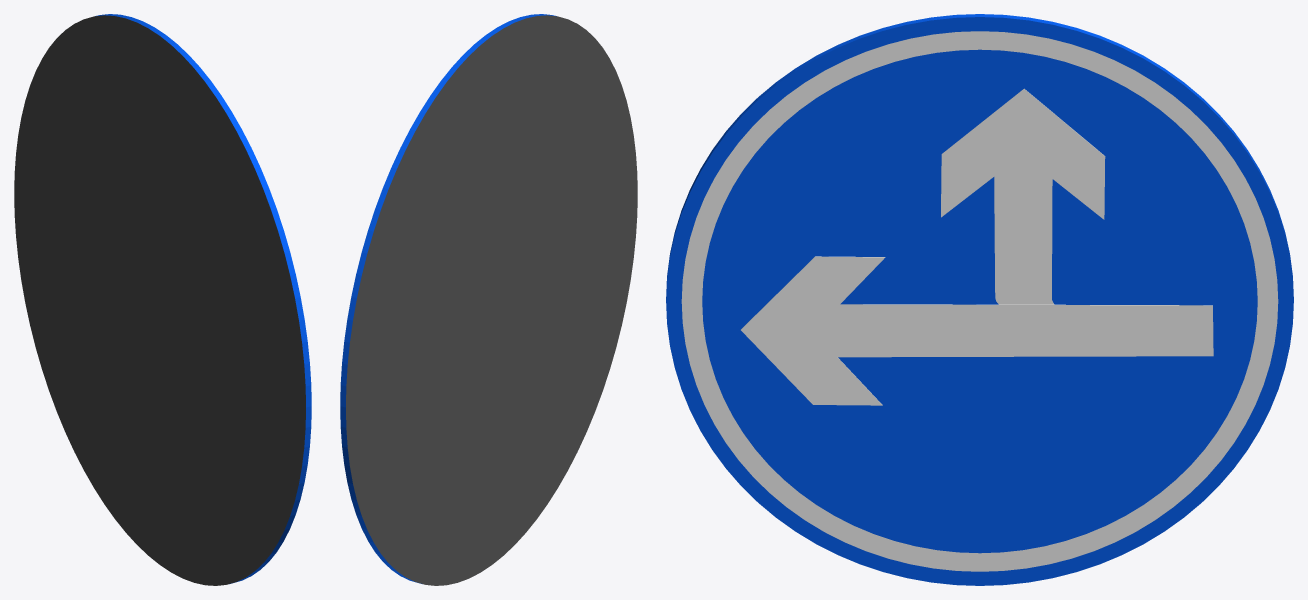
File: 右转直行.gltf
3 views of the same model, side by side, from view 1: azimuth 30°, elevation 25°; view 2: azimuth 150°, elevation 25°; view 3: azimuth 270°, elevation 25° (orthographic). The views are drawn at different scales.
Parts seen in each view (by area): view 1: 圆环; view 2: 圆环; view 3: 圆环, BezierCurve.002.
Part boxes in pixels (x1,y1,x2,y2): 圆环: (14,14,311,585); 圆环: (340,14,637,585); 圆环: (666,14,1293,585); BezierCurve.002: (741,88,1213,405).
Size of the model in its own units: 0.0106 by 0.8 by 0.8.
